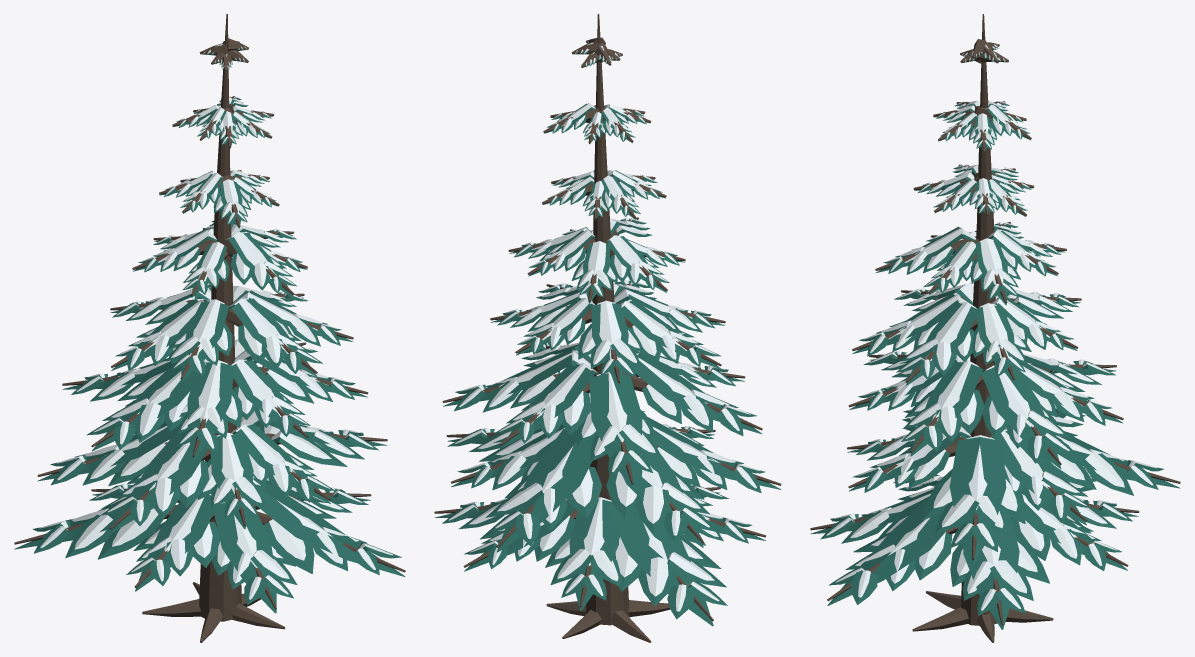
File: TREE_01_PineLargeSnowy.glb
3 renders of one model, left to right at view 1: azimuth 30°, elevation 25°; view 2: azimuth 150°, elevation 25°; view 3: azimuth 270°, elevation 25°, orthographic.
Visible parts, largest first — view 1: TREE_01_PineLargeSnowy; view 2: TREE_01_PineLargeSnowy; view 3: TREE_01_PineLargeSnowy.
Boxes of the visible parts, box(x1,y1,x2,y2) form: TREE_01_PineLargeSnowy: box(14, 14, 405, 642); TREE_01_PineLargeSnowy: box(434, 14, 781, 642); TREE_01_PineLargeSnowy: box(810, 14, 1180, 642).
Bounding box in the file's own units: 6.05 × 10.84 × 5.98.
